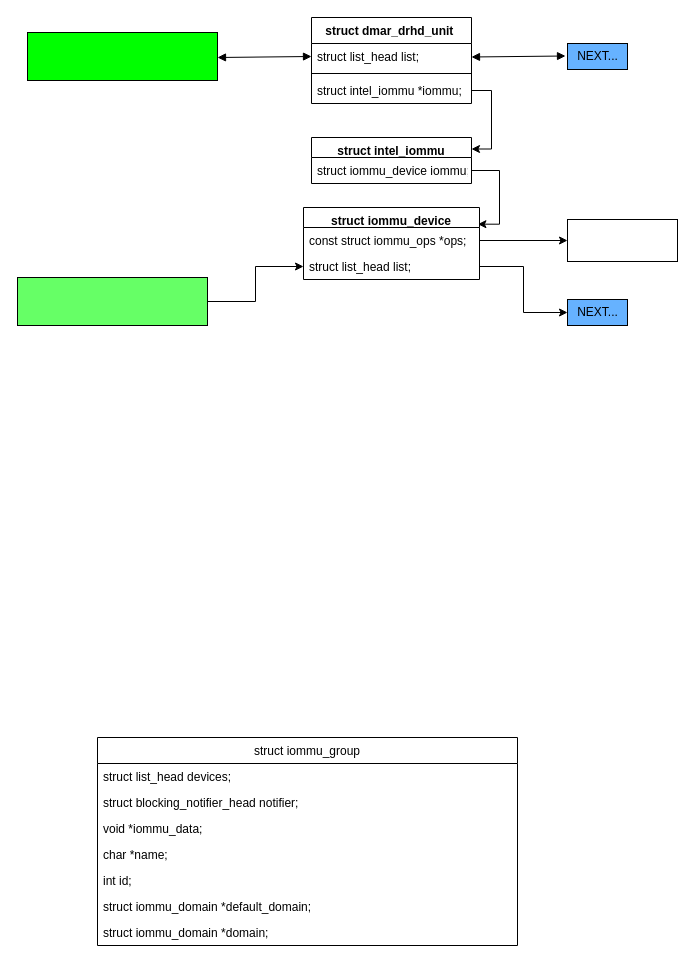
Image size: 695x966. Some labels were removed from this diagram. The shapes that lost their labels are listed below. From the top down, each one's centre as x and y in pixels, then its label:
At point (122, 56): "struct list_head dmar_drhd_units".
At point (622, 240): "intel_iommu_ops".
At point (112, 301): "struct list_head iommu_device_list".
